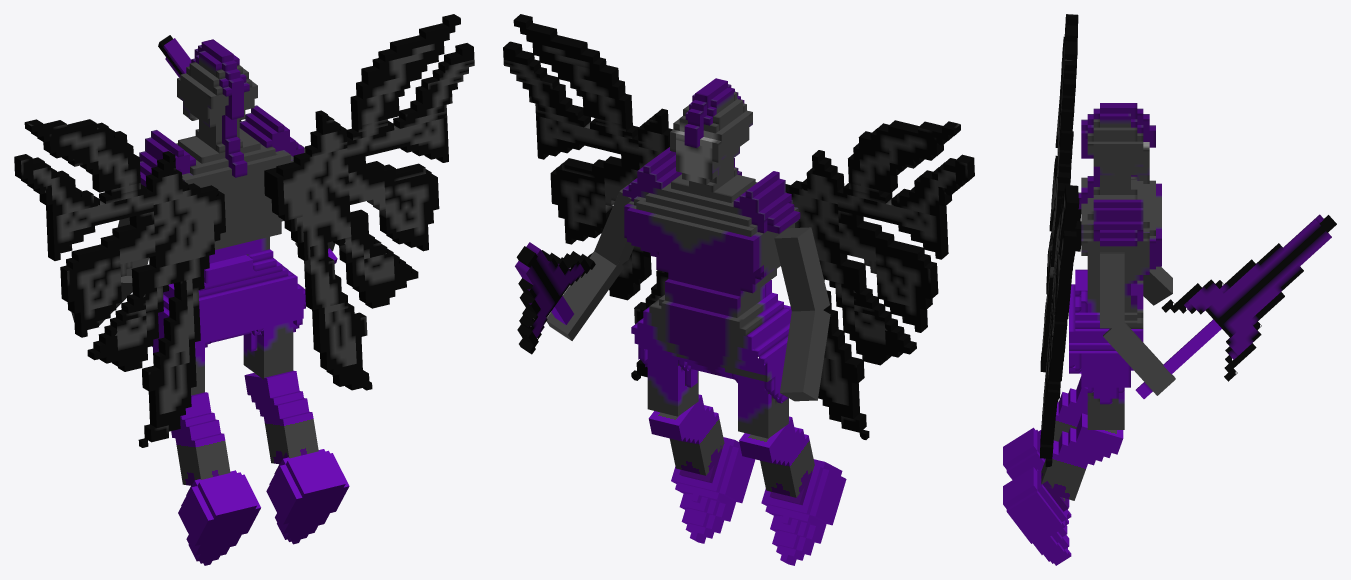
Rendered from Eyra.dae.
3 views of the same model, side by side, from view 1: azimuth 30°, elevation 25°; view 2: azimuth 150°, elevation 25°; view 3: azimuth 270°, elevation 25° (orthographic). The views are drawn at different scales.
Parts seen in each view (by area): view 1: alaDerecha_eyra-local, alaIzquierda_eyra-local, cuerpo_eyra-local, pies_eyra-local, piernas_eyra-local, manoDerecha_eyra-local; view 2: cuerpo_eyra-local, alaIzquierda_eyra-local, alaDerecha_eyra-local, pies_eyra-local, piernas_eyra-local, manoDerecha_eyra-local, manoIzquierda_eyra-local, brazoIzquierdo_eyra-local, brazoDerecho_eyra-local; view 3: cuerpo_eyra-local, manoDerecha_eyra-local, pies_eyra-local, alaDerecha_eyra-local, piernas_eyra-local, alaIzquierda_eyra-local, brazoDerecho_eyra-local, manoIzquierda_eyra-local.
Part boxes in pixels (x1,y1,x2,y2): alaDerecha_eyra-local: (264, 14, 474, 390); alaIzquierda_eyra-local: (14, 119, 225, 447); cuerpo_eyra-local: (139, 39, 305, 395); pies_eyra-local: (178, 449, 349, 565); piernas_eyra-local: (171, 370, 318, 485); manoDerecha_eyra-local: (158, 35, 337, 263); cuerpo_eyra-local: (622, 78, 800, 438); alaIzquierda_eyra-local: (785, 120, 974, 439); alaDerecha_eyra-local: (503, 14, 672, 380); pies_eyra-local: (671, 437, 846, 565); piernas_eyra-local: (648, 394, 814, 497); manoDerecha_eyra-local: (515, 242, 623, 354); manoIzquierda_eyra-local: (780, 306, 830, 401); brazoIzquierdo_eyra-local: (774, 227, 829, 311); brazoDerecho_eyra-local: (594, 185, 634, 265); cuerpo_eyra-local: (1069, 103, 1161, 429); manoDerecha_eyra-local: (1103, 214, 1336, 398); pies_eyra-local: (1003, 427, 1071, 565); alaDerecha_eyra-local: (1040, 185, 1081, 466); piernas_eyra-local: (1041, 376, 1123, 500); alaIzquierda_eyra-local: (1040, 14, 1081, 372); brazoDerecho_eyra-local: (1100, 252, 1124, 328); manoIzquierda_eyra-local: (1143, 266, 1172, 305).
Size of the model in its own units: 77 by 78.13 by 53.79.
9 materials, 9 textured.
